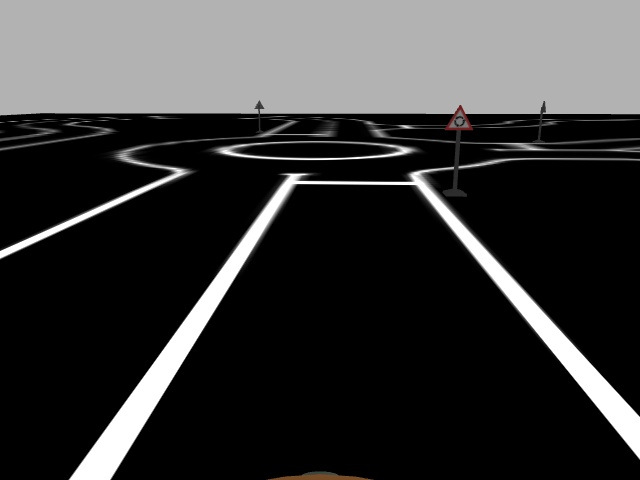roundabout: (443, 105, 474, 130)
